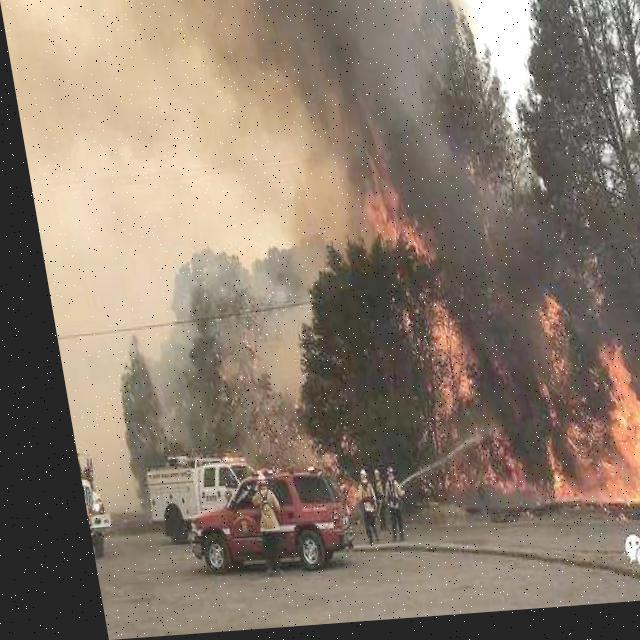Fire: (355, 172, 509, 510), (510, 290, 639, 521)
